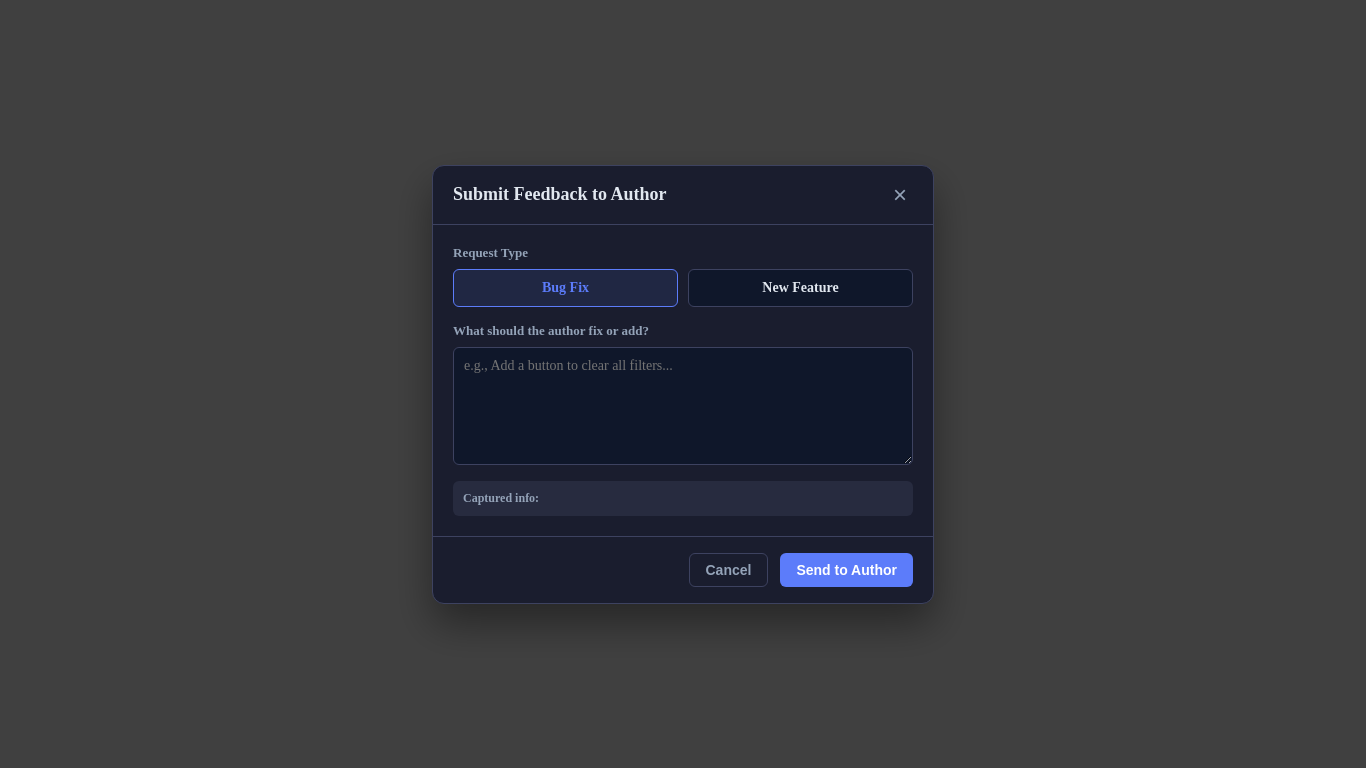
Test: FeedbackDialog › shows error if description is missing on submit
Click the button "Send to Author" at (847, 570), box [780,552,913,586]
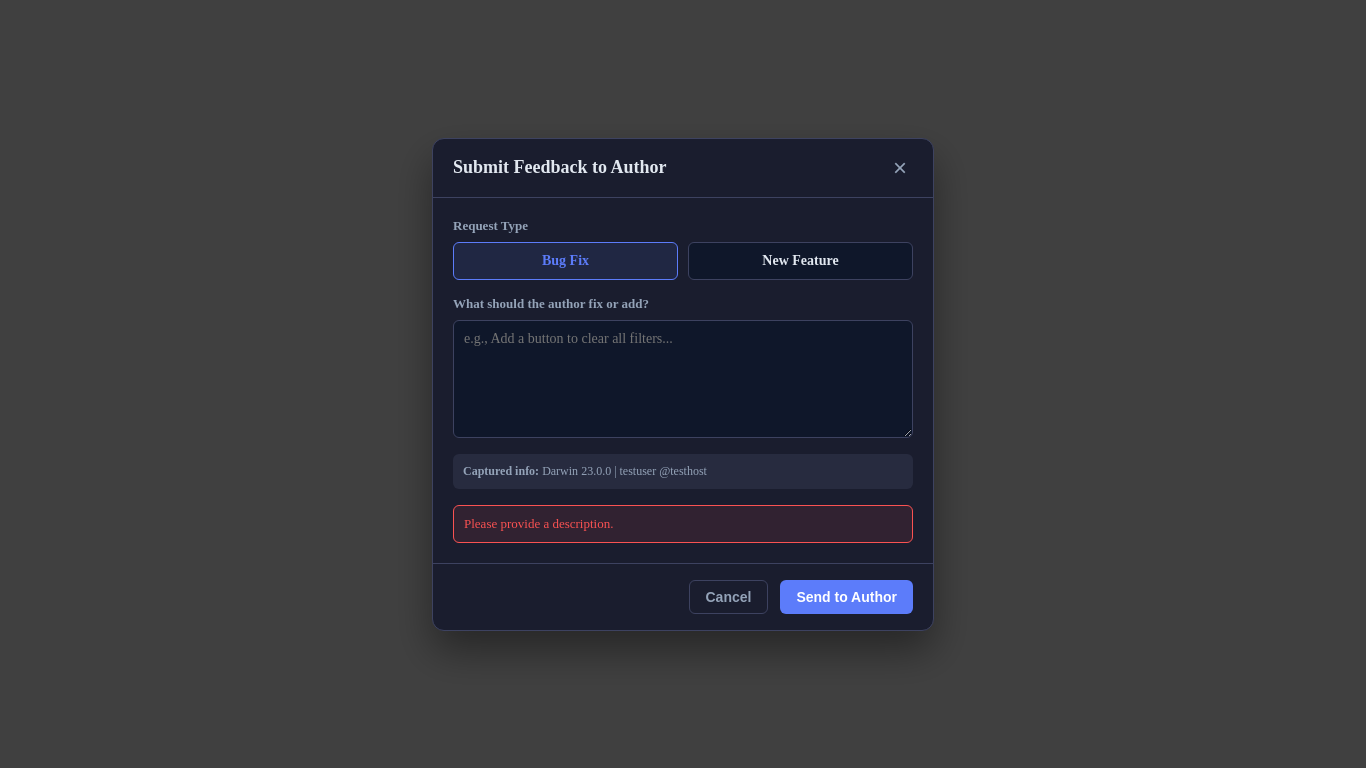
Now the text "Please provide a description." is shown, box [453,504,913,542]
